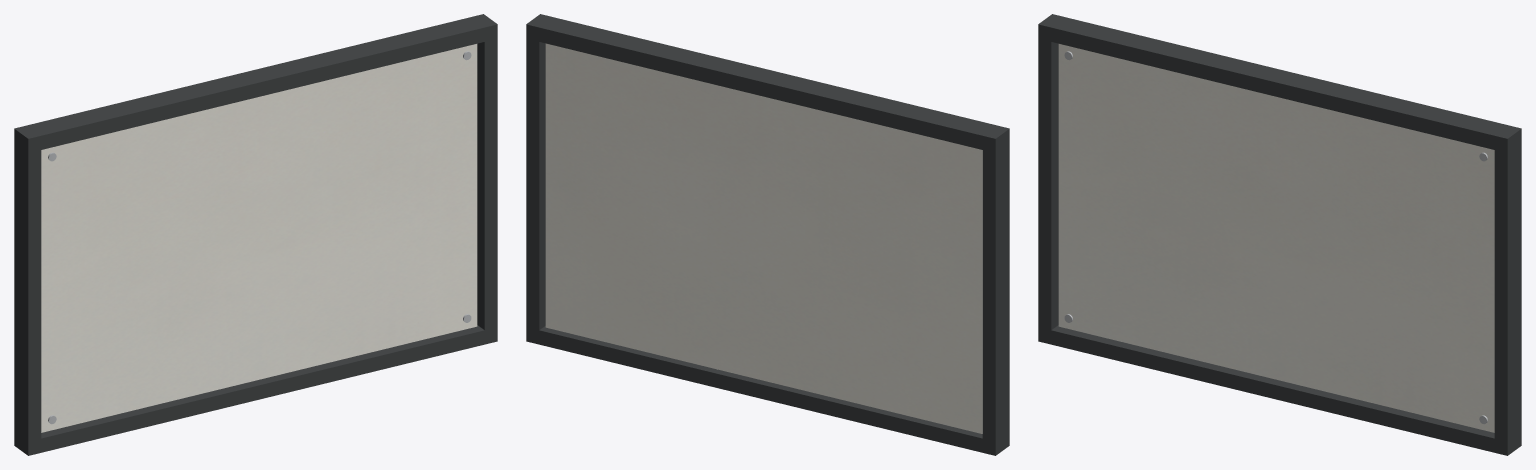
The model's file is directory.glb.
3 views of the same model, side by side, from view 1: azimuth 30°, elevation 25°; view 2: azimuth 150°, elevation 25°; view 3: azimuth 330°, elevation 25° (orthographic).
Visible parts, largest first — view 1: Blank white directory face, Straight directory horizontal frame.001, Straight directory horizontal frame, Straight directory vertical frame, Straight directory vertical frame.001; view 2: Blank white directory face, Straight directory horizontal frame.001, Straight directory horizontal frame, Straight directory vertical frame, Straight directory vertical frame.001; view 3: Blank white directory face, Straight directory horizontal frame.001, Straight directory horizontal frame, Straight directory vertical frame.001, Straight directory vertical frame.
Boxes of the visible parts, x1,y1,x2,y2 form: Blank white directory face: (41,44,477,432); Straight directory horizontal frame.001: (14,14,497,152); Straight directory horizontal frame: (14,325,497,455); Straight directory vertical frame: (14,130,41,453); Straight directory vertical frame.001: (477,27,497,342); Blank white directory face: (545,43,982,433); Straight directory horizontal frame.001: (526,14,1009,152); Straight directory horizontal frame: (526,326,1009,455); Straight directory vertical frame: (982,130,1009,452); Straight directory vertical frame.001: (526,28,545,340); Blank white directory face: (1058,44,1494,432); Straight directory horizontal frame.001: (1038,14,1521,152); Straight directory horizontal frame: (1038,325,1521,455); Straight directory vertical frame.001: (1494,130,1521,452); Straight directory vertical frame: (1038,28,1058,340).
Bounding box in the file's own units: 0.86 × 0.555 × 0.045.
3 materials, 2 textured.
